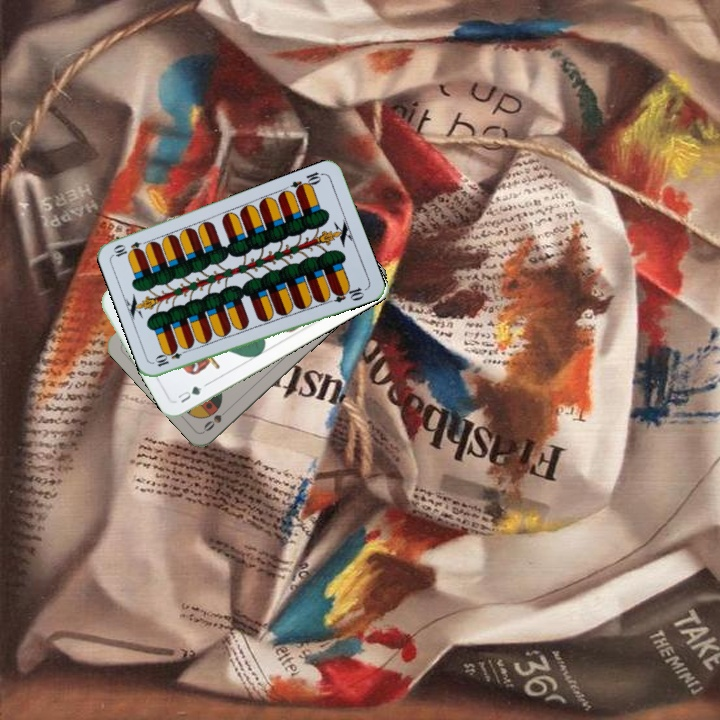E10: (287, 168, 326, 196), (151, 344, 191, 369)
GU: (173, 382, 205, 406)
SO: (199, 402, 233, 434)
